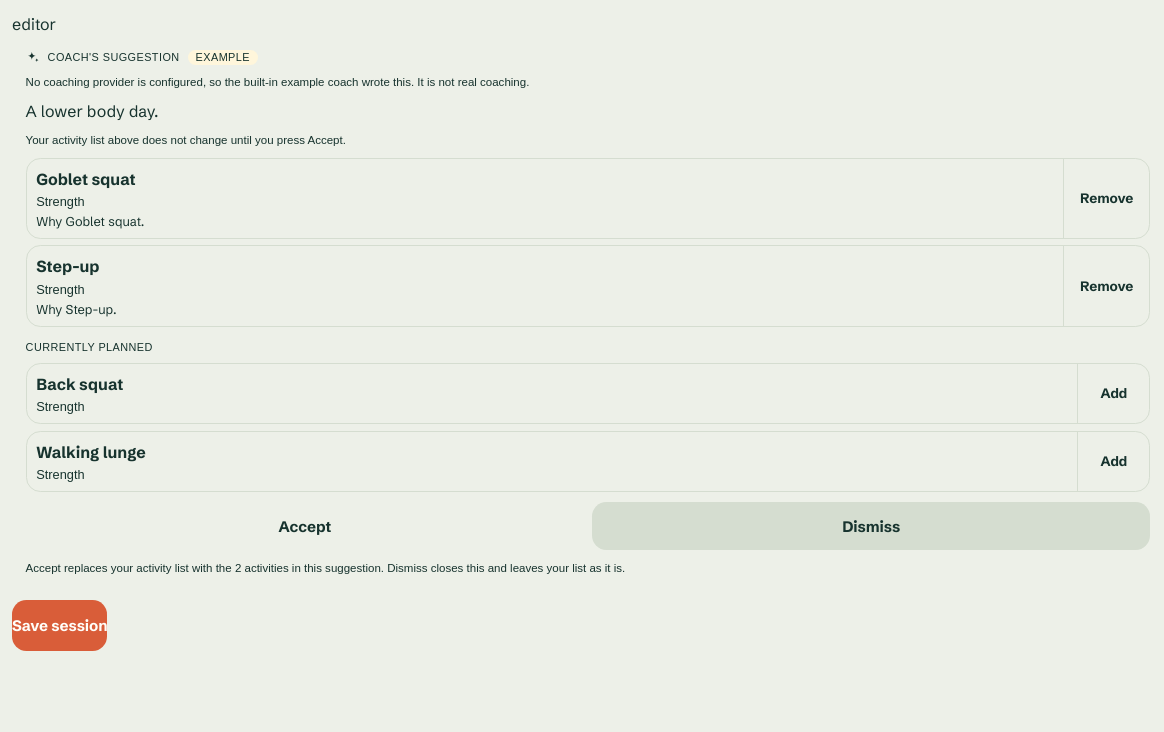
Test: FillWithCoach › leaves the activity list alone until Accept, then loads exactly what the box holds
Click the button with aria-label "Remove Goblet squat" at (1106, 198), box [1063,159,1149,238]
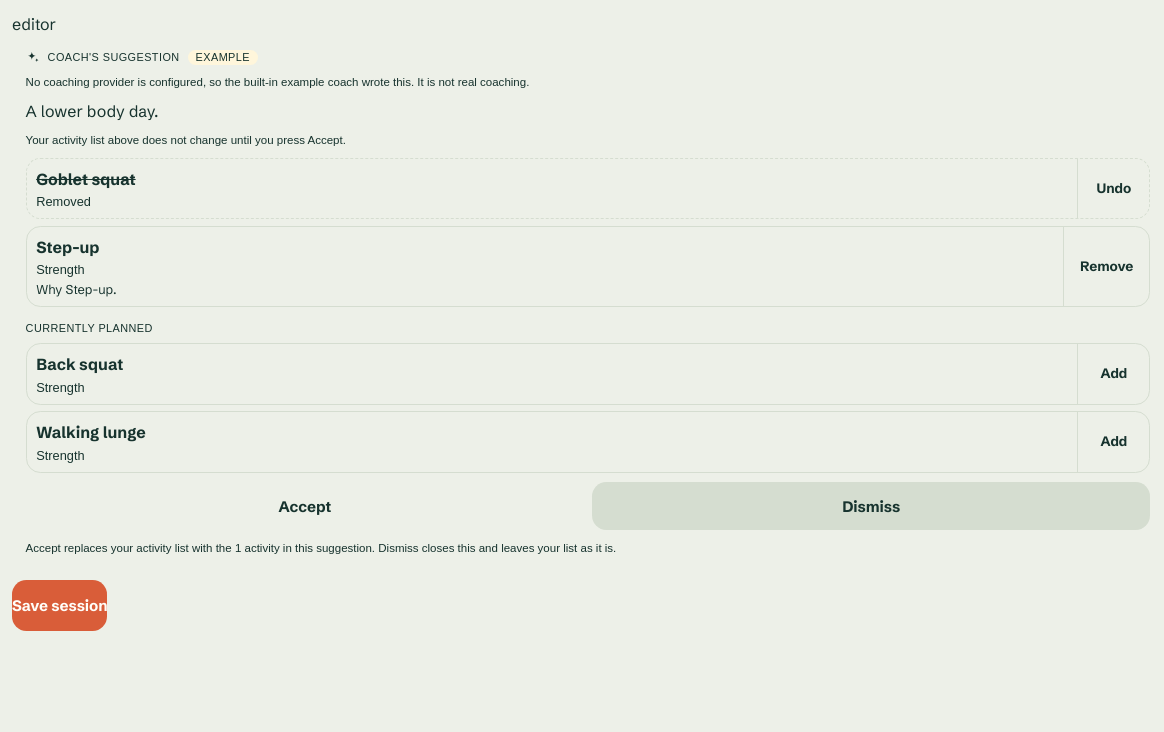
Click the button with aria-label "Add Walking lunge" at (1113, 442), box [1077,412,1149,472]
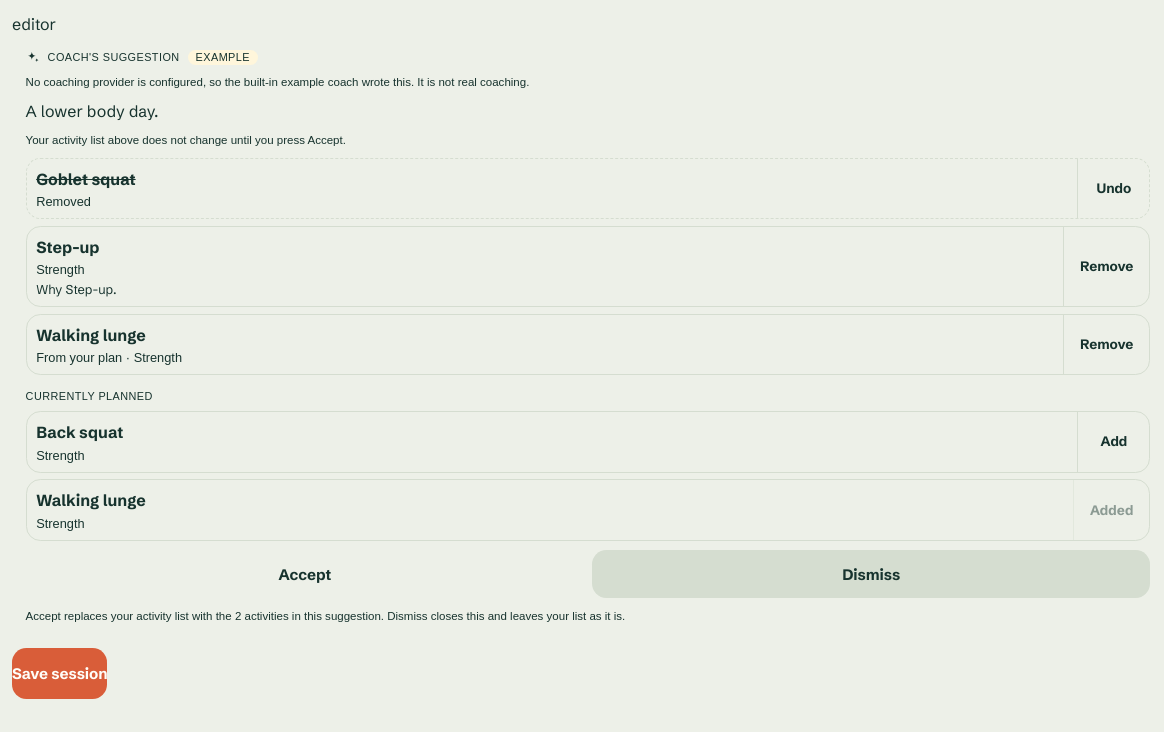
Click the button "Accept" at (305, 574), box [26,550,584,598]
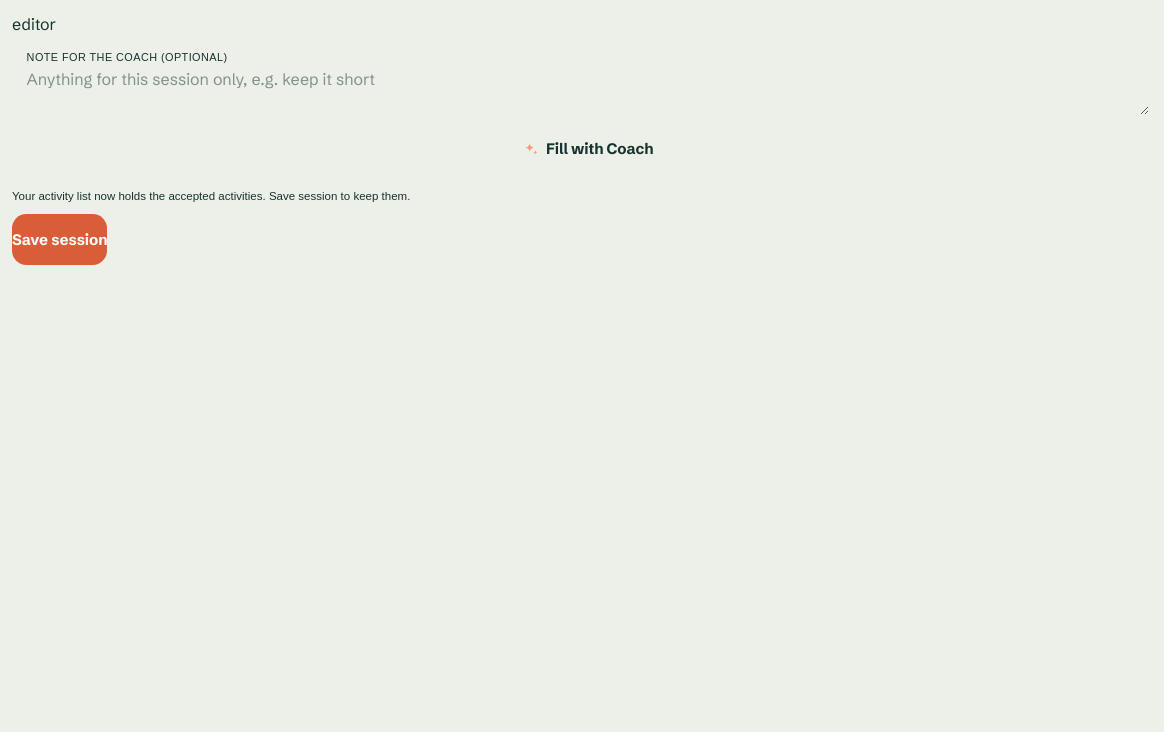
Expected: the element "Coach's suggestion" is gone
